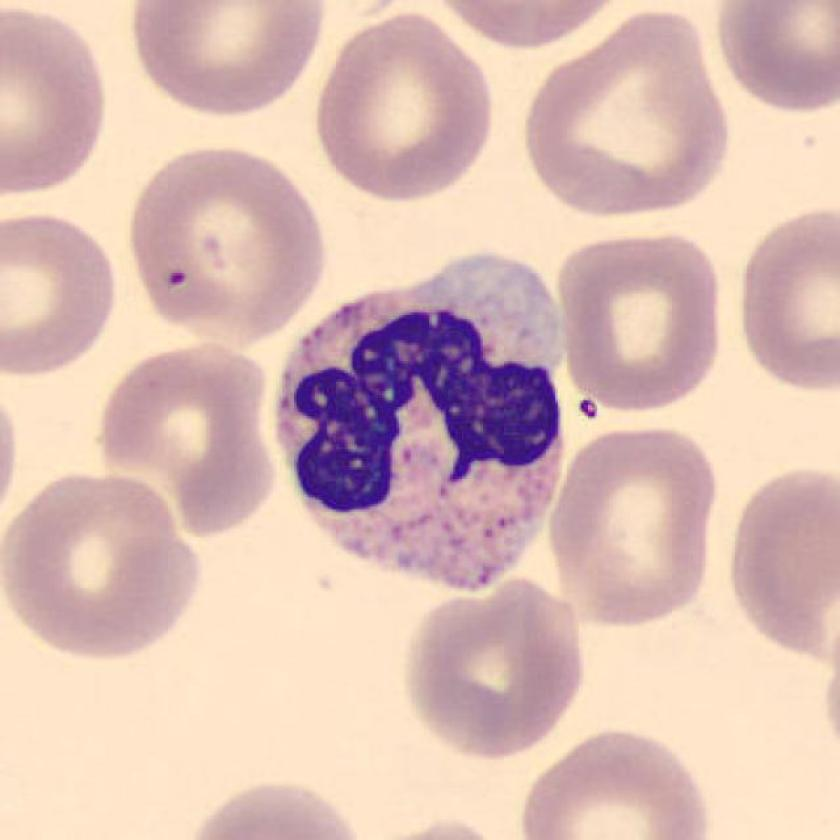neutrophil: (277, 250, 563, 589)
